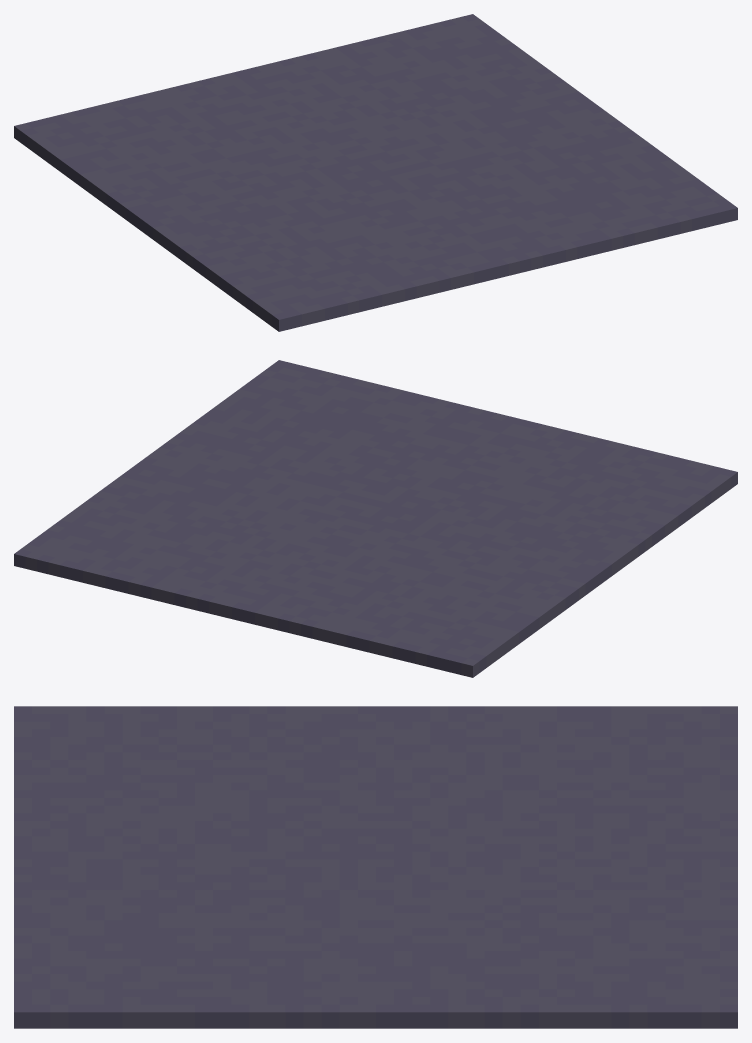
Rendered from floor_01_S.glb.
3 views of the same model, one above another, from view 1: azimuth 30°, elevation 25°; view 2: azimuth 150°, elevation 25°; view 3: azimuth 270°, elevation 25° (orthographic). The views are drawn at different scales.
Parts seen in each view (by area): view 1: Untitled; view 2: Untitled; view 3: Untitled.
Part boxes in pixels (left/top/right/bottom): Untitled: left=14, top=14, right=737, bottom=331; Untitled: left=14, top=360, right=737, bottom=677; Untitled: left=14, top=706, right=737, bottom=1028.
Bounding box in the file's own units: 1.2 × 0.03 × 1.2.
1 material, 1 textured.
